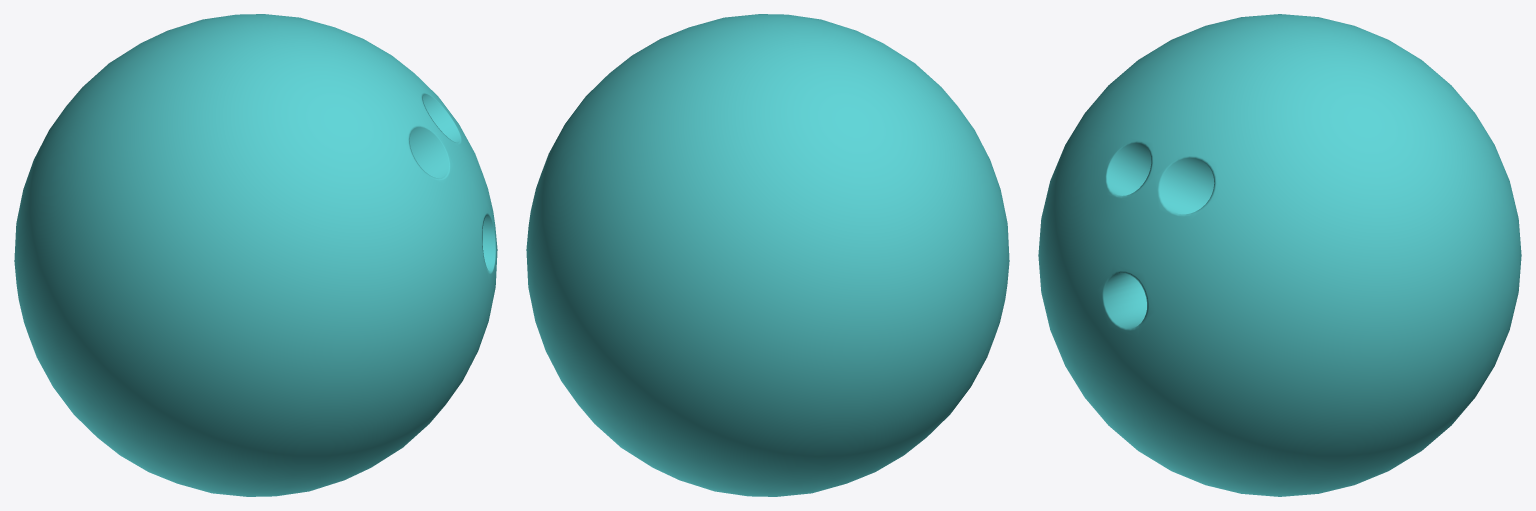
The model's file is bowlingBall1.fbx.
The picture shows the model from 3 angles, left to right: view 1: azimuth 30°, elevation 25°; view 2: azimuth 150°, elevation 25°; view 3: azimuth 270°, elevation 25°; orthographic projection.
Visible parts, largest first — view 1: Icosphere; view 2: Icosphere; view 3: Icosphere.
Part boxes in pixels (x1,y1,x2,y2): Icosphere: (14, 14, 497, 496); Icosphere: (526, 14, 1009, 496); Icosphere: (1038, 14, 1521, 496).
Bounding box in the file's own units: 200 × 200 × 200.
